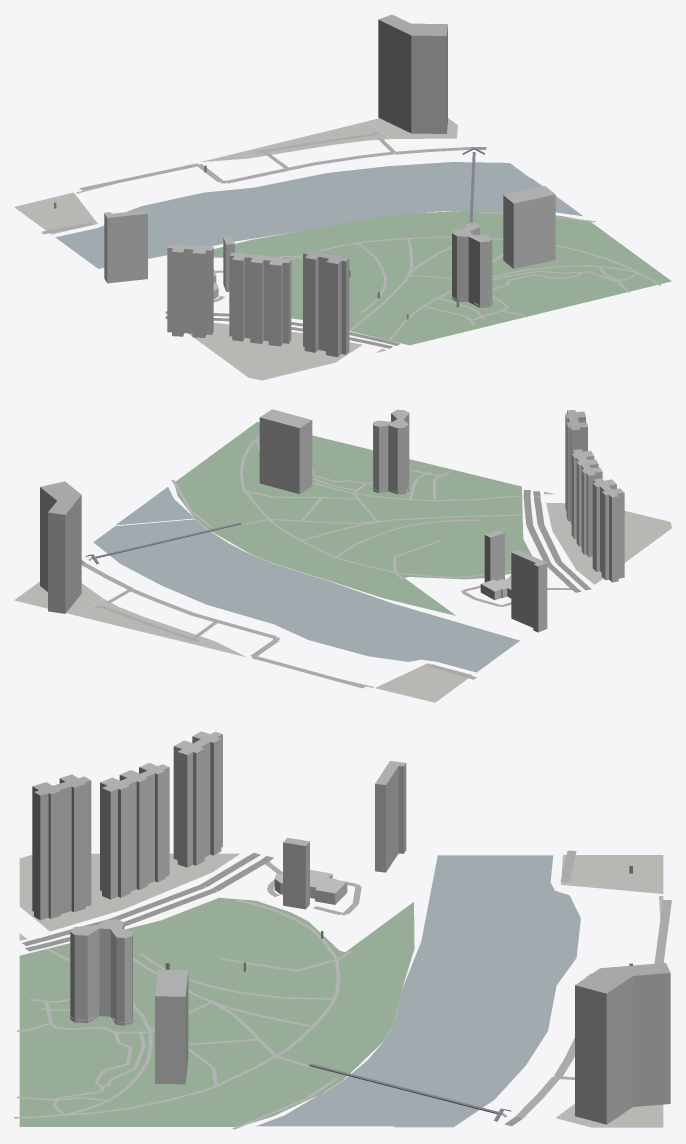
3 renders of one model, top to bottom at view 1: azimuth 30°, elevation 25°; view 2: azimuth 150°, elevation 25°; view 3: azimuth 270°, elevation 25°, orthographic. The views are drawn at different scales.
Bounding box in the file's own units: 523 × 113 × 511.
